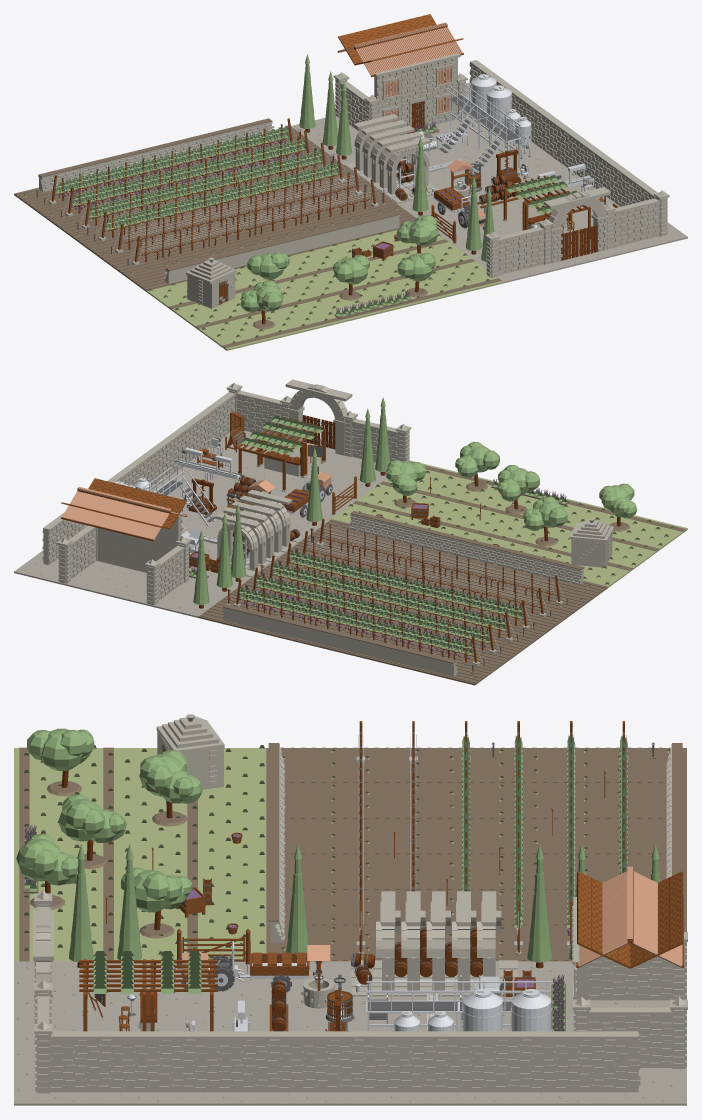
File: starter-scene-hillside-estate-open-cellar.glb
The picture shows the model from 3 angles, top to bottom: view 1: azimuth 30°, elevation 25°; view 2: azimuth 150°, elevation 25°; view 3: azimuth 270°, elevation 25°; orthographic projection. The views are drawn at different scales.
Visible parts, largest first — view 1: 175-farmhouse-front/farmhouse-front-stone, 184-stone-arch-gateway/stone-arch-gateway-stone, 187-stone-wall-section/stone-wall-section-stone, 189-stone-wall-section/stone-wall-section-stone, 150-stone-field-hut/stone-field-hut-stone, 182-tile-roof-section/tile-roof-section-terracotta, 183-tile-roof-section/tile-roof-section-terracotta, 007-headland-strip/headland-strip-grass, 003-vineyard-soil-tile/vineyard-soil-tile-soil, 047-headland-strip/headland-strip-grass, 011-vineyard-soil-tile/vineyard-soil-tile-soil, 019-vineyard-soil-tile/vineyard-soil-tile-soil (+87 smaller); view 2: 175-farmhouse-front/farmhouse-front-stone, 184-stone-arch-gateway/stone-arch-gateway-stone, 150-stone-field-hut/stone-field-hut-stone, 182-tile-roof-section/tile-roof-section-terracotta, 183-tile-roof-section/tile-roof-section-terracotta, 189-stone-wall-section/stone-wall-section-stone, 070-gravel-yard-module/gravel-yard-module-gravel, 007-headland-strip/headland-strip-grass, 182-tile-roof-section/tile-roof-section-timber, 154-olive-tree/olive-tree-leaf, 152-olive-tree/olive-tree-leaf, 048-gravel-yard-module/gravel-yard-module-gravel (+103 smaller); view 3: 197-stone-wall-section/stone-wall-section-stone, 192-stone-wall-section/stone-wall-section-stone, 193-stone-wall-section/stone-wall-section-stone, 194-stone-wall-section/stone-wall-section-stone, 195-stone-wall-section/stone-wall-section-stone, 196-stone-wall-section/stone-wall-section-stone, 191-stone-wall-section/stone-wall-section-stone, 177-stone-wall-section/stone-wall-section-stone, 180-stone-wall-section/stone-wall-section-stone, 150-stone-field-hut/stone-field-hut-stone, 027-vineyard-soil-tile/vineyard-soil-tile-soil, 011-vineyard-soil-tile/vineyard-soil-tile-soil (+99 smaller).
Part boxes in pixels (<box>): 175-farmhouse-front/farmhouse-front-stone: <box>374,53,460,129</box>; 184-stone-arch-gateway/stone-arch-gateway-stone: <box>544,187,610,263</box>; 187-stone-wall-section/stone-wall-section-stone: <box>498,226,544,275</box>; 189-stone-wall-section/stone-wall-section-stone: <box>614,198,659,247</box>; 150-stone-field-hut/stone-field-hut-stone: <box>186,257,236,308</box>; 182-tile-roof-section/tile-roof-section-terracotta: <box>338,33,416,75</box>; 183-tile-roof-section/tile-roof-section-terracotta: <box>400,22,462,63</box>; 007-headland-strip/headland-strip-grass: <box>200,319,272,350</box>; 003-vineyard-soil-tile/vineyard-soil-tile-soil: <box>94,241,165,272</box>; 047-headland-strip/headland-strip-grass: <box>431,262,503,294</box>; 011-vineyard-soil-tile/vineyard-soil-tile-soil: <box>141,229,211,260</box>; 019-vineyard-soil-tile/vineyard-soil-tile-soil: <box>187,218,258,248</box>; 175-farmhouse-front/farmhouse-front-stone: <box>97,512,184,572</box>; 184-stone-arch-gateway/stone-arch-gateway-stone: <box>285,379,352,455</box>; 150-stone-field-hut/stone-field-hut-stone: <box>569,518,614,567</box>; 182-tile-roof-section/tile-roof-section-terracotta: <box>108,498,186,539</box>; 183-tile-roof-section/tile-roof-section-terracotta: <box>62,486,124,528</box>; 189-stone-wall-section/stone-wall-section-stone: <box>236,390,282,435</box>; 070-gravel-yard-module/gravel-yard-module-gravel: <box>60,564,132,595</box>; 007-headland-strip/headland-strip-grass: <box>615,517,687,548</box>; 182-tile-roof-section/tile-roof-section-timber: <box>107,489,187,541</box>; 154-olive-tree/olive-tree-leaf: <box>455,441,499,477</box>; 152-olive-tree/olive-tree-leaf: <box>497,464,539,501</box>; 048-gravel-yard-module/gravel-yard-module-gravel: <box>152,586,224,617</box>; 197-stone-wall-section/stone-wall-section-stone: <box>554,1031,640,1092</box>; 192-stone-wall-section/stone-wall-section-stone: <box>134,1031,219,1092</box>; 193-stone-wall-section/stone-wall-section-stone: <box>218,1031,303,1092</box>; 194-stone-wall-section/stone-wall-section-stone: <box>302,1031,387,1092</box>; 195-stone-wall-section/stone-wall-section-stone: <box>386,1031,471,1092</box>; 196-stone-wall-section/stone-wall-section-stone: <box>470,1031,555,1092</box>; 191-stone-wall-section/stone-wall-section-stone: <box>50,1031,135,1092</box>; 177-stone-wall-section/stone-wall-section-stone: <box>588,956,672,1000</box>; 180-stone-wall-section/stone-wall-section-stone: <box>588,1007,672,1067</box>; 150-stone-field-hut/stone-field-hut-stone: <box>156,714,224,789</box>; 027-vineyard-soil-tile/vineyard-soil-tile-soil: <box>350,854,434,890</box>; 011-vineyard-soil-tile/vineyard-soil-tile-soil: <box>350,783,434,818</box>.
Bounding box in the file's own units: 40 × 6.97 × 32.05.
Materials: 12 (5 with a texture image).
